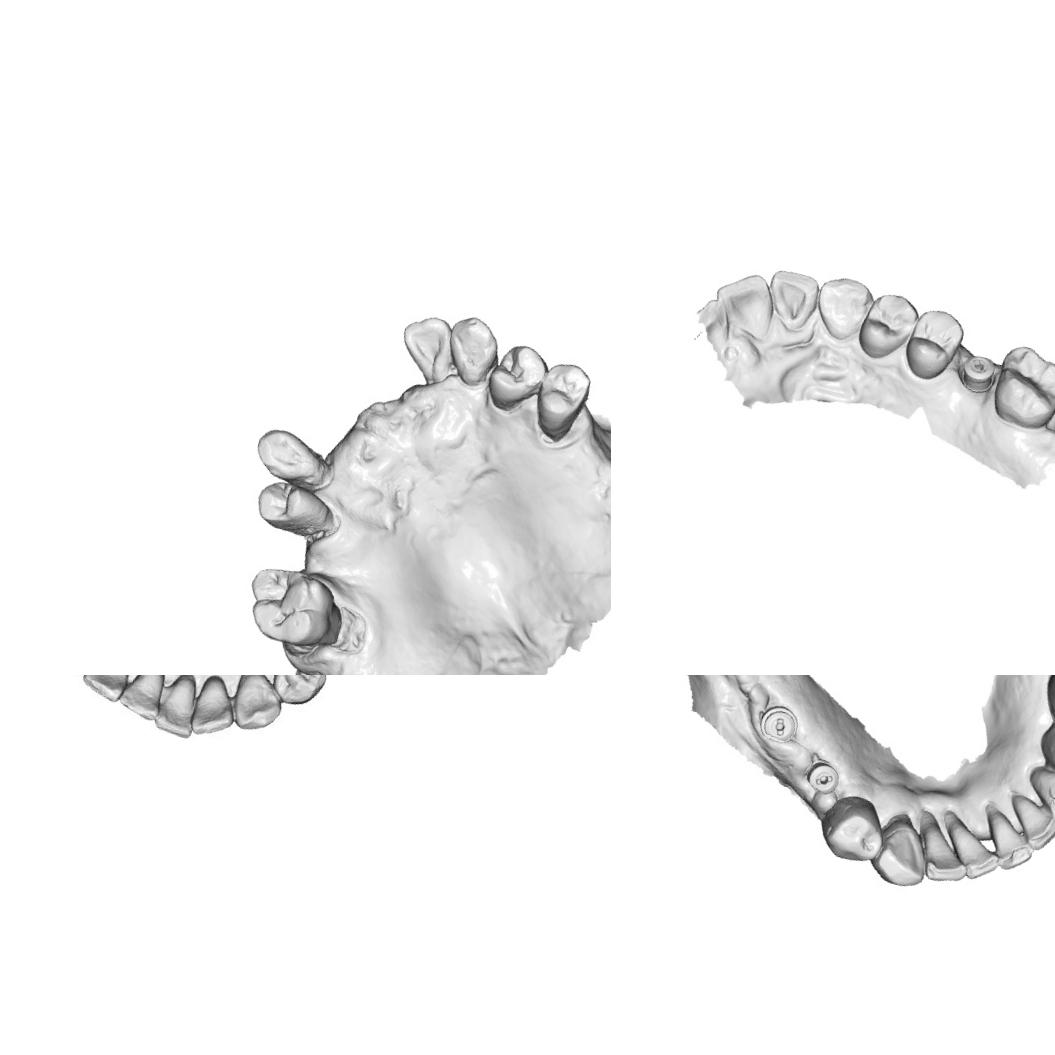canine: (866, 808, 943, 894), (434, 306, 506, 392), (245, 418, 329, 489), (806, 266, 878, 348), (225, 675, 290, 736), (1022, 763, 1055, 826)
implant_minus: (751, 698, 808, 755), (796, 750, 844, 798), (954, 350, 998, 396)
incisor: (703, 260, 784, 345), (390, 306, 464, 388), (757, 262, 825, 340), (974, 807, 1042, 878), (915, 816, 978, 890), (148, 675, 208, 747), (188, 675, 247, 742), (997, 791, 1055, 857), (943, 831, 1008, 888), (116, 675, 173, 719), (78, 675, 134, 699)
molar: (235, 556, 346, 657), (983, 337, 1055, 437)
premolar: (524, 352, 597, 439), (478, 336, 554, 418), (852, 282, 925, 366), (812, 790, 888, 870), (898, 302, 968, 388), (249, 472, 333, 542), (269, 675, 327, 706), (1030, 718, 1055, 786)
